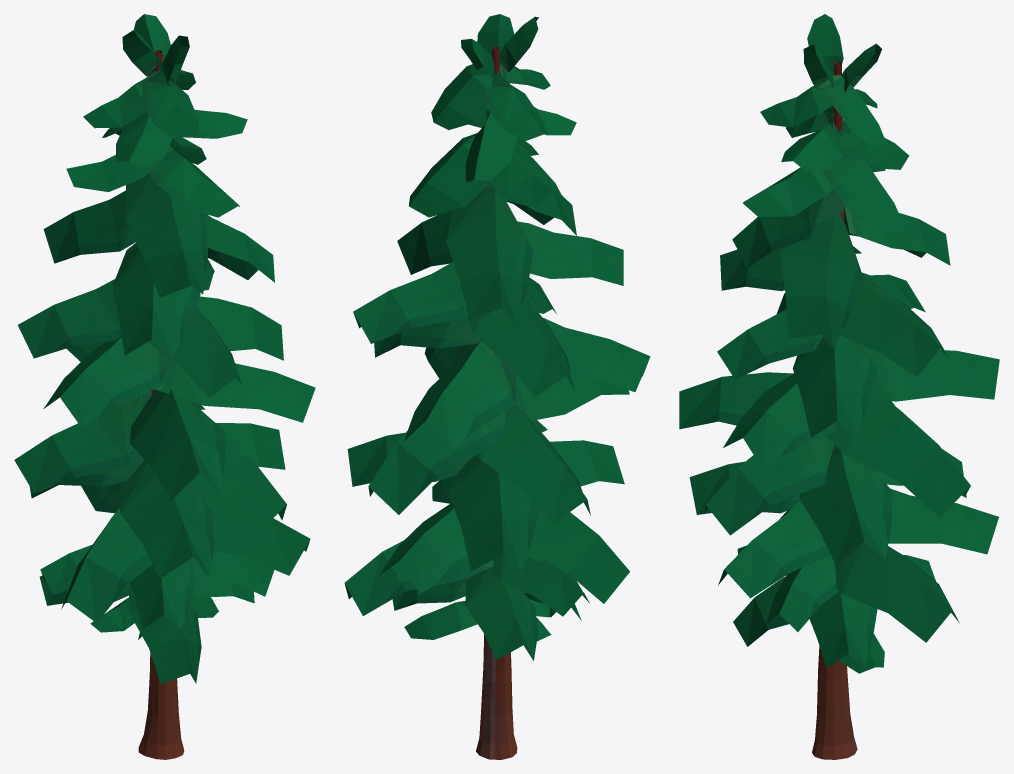
The model's file is Dynamic_Tree_06.fbx.
3 views of the same model, side by side, from view 1: azimuth 30°, elevation 25°; view 2: azimuth 150°, elevation 25°; view 3: azimuth 270°, elevation 25° (orthographic). The views are drawn at different scales.
Visible parts, largest first — view 1: SM_Tree_06_Dynamic.mo; view 2: SM_Tree_06_Dynamic.mo; view 3: SM_Tree_06_Dynamic.mo.
Part boxes in pixels (left/top/right/bottom): SM_Tree_06_Dynamic.mo: left=14, top=14, right=315, bottom=759; SM_Tree_06_Dynamic.mo: left=344, top=14, right=650, bottom=759; SM_Tree_06_Dynamic.mo: left=679, top=14, right=999, bottom=759.
Bounding box in the file's own units: 415 × 1113 × 448.
Materials: 2 (2 with a texture image).
